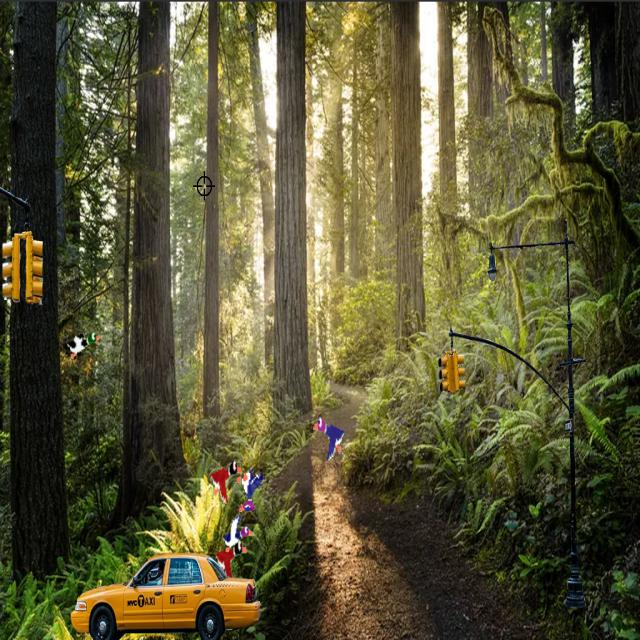duck: (304, 413, 348, 461), (61, 322, 104, 368), (206, 456, 239, 504), (207, 539, 251, 573), (219, 516, 256, 548)
falling_duck: (236, 467, 265, 512)
